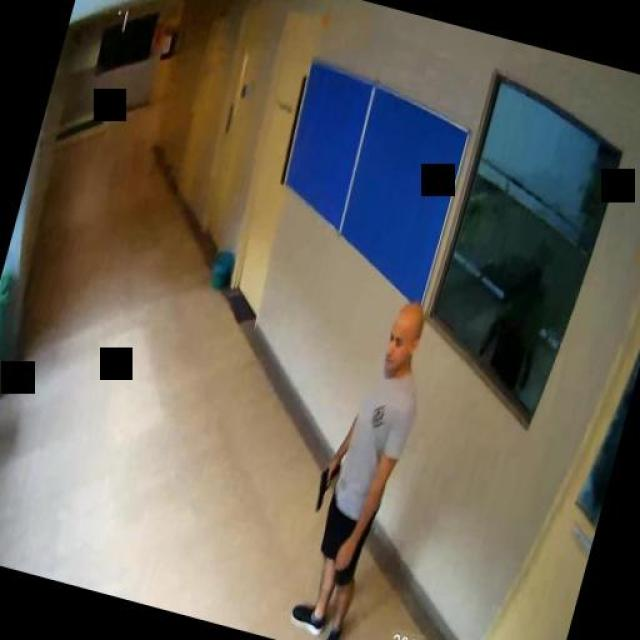gun: (310, 456, 340, 514)
